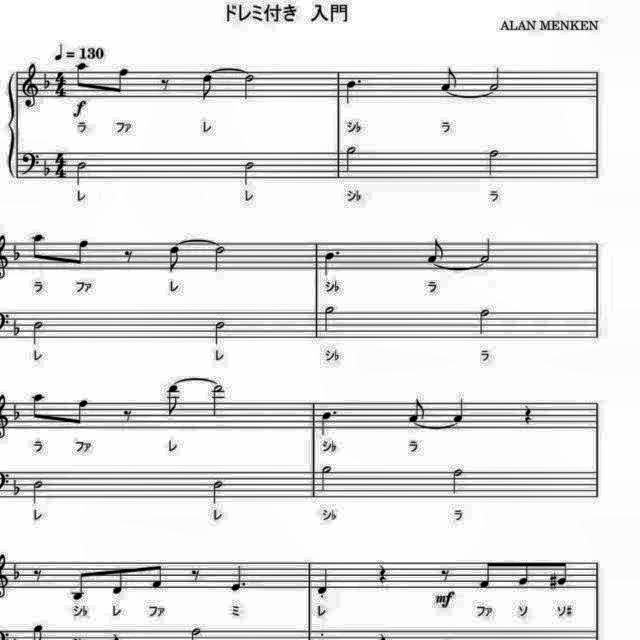Bass-clef: (20, 149, 42, 177)
Bemol: (10, 240, 26, 268), (41, 154, 54, 180), (9, 401, 23, 424), (41, 66, 53, 92), (9, 559, 23, 581), (10, 317, 22, 337), (10, 477, 22, 497)
Diez: (546, 570, 558, 594)
Eighth-note: (68, 565, 92, 603), (68, 394, 92, 430), (108, 65, 132, 99), (68, 236, 92, 270), (164, 380, 184, 420), (27, 388, 49, 424), (110, 562, 132, 598), (422, 234, 446, 266), (438, 62, 462, 94), (477, 556, 497, 592), (28, 230, 48, 266), (164, 244, 186, 276), (406, 395, 429, 425), (146, 559, 166, 593), (198, 72, 218, 104), (514, 559, 532, 589), (73, 60, 91, 90), (556, 558, 572, 590)
Eighth-rest: (157, 74, 175, 94), (118, 407, 136, 427), (119, 246, 137, 266), (438, 564, 454, 586), (29, 564, 46, 584), (186, 565, 202, 585)
Half-note: (320, 302, 340, 338), (208, 382, 228, 418), (342, 144, 362, 178), (484, 144, 504, 178), (448, 466, 468, 498), (316, 464, 336, 496), (476, 304, 494, 338), (478, 234, 497, 266), (240, 158, 260, 188), (208, 477, 228, 507), (210, 319, 230, 349), (486, 63, 506, 93), (240, 70, 258, 102), (210, 244, 228, 276), (72, 158, 90, 188), (29, 318, 47, 347), (29, 478, 46, 508)
Quarter-dot: (321, 248, 345, 280), (342, 76, 366, 108), (316, 407, 340, 438), (230, 562, 250, 594)
Quarter-note: (316, 564, 336, 596), (450, 396, 470, 424)
Quarter-rest: (374, 560, 392, 586), (520, 402, 536, 426)
Treble-clef: (19, 61, 41, 111)
